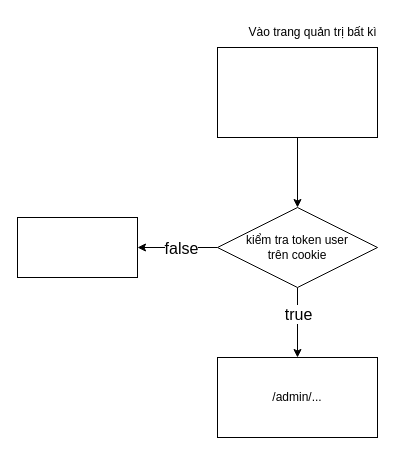
The diagram is 405 pixels wide and 455 high, and some of its shapes have lost their labels. The box of each missing label's shape, as (x1, y1, x2, y2) in pixels:
/admin/....: (216, 46, 378, 138)
trang đăng nhập: (16, 216, 138, 278)
